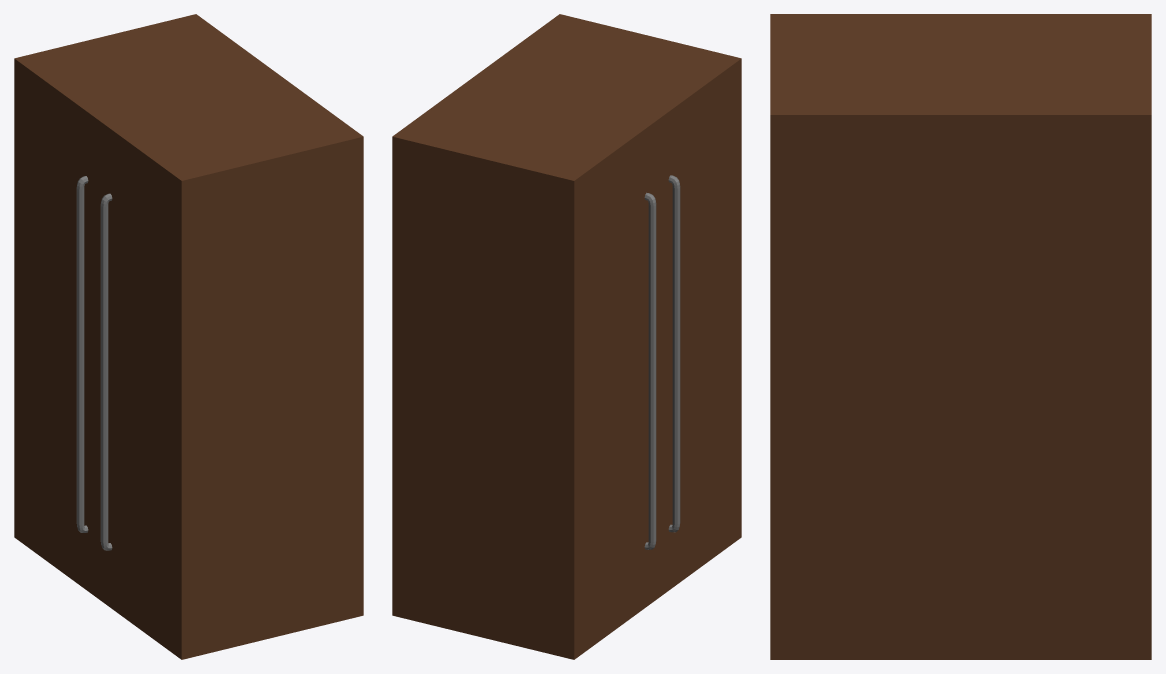
Rendered from RatSpawner2.fbx.
3 views of the same model, side by side, from view 1: azimuth 30°, elevation 25°; view 2: azimuth 150°, elevation 25°; view 3: azimuth 270°, elevation 25° (orthographic). The views are drawn at different scales.
Visible parts, largest first — view 1: Cupboard; view 2: Cupboard; view 3: Cupboard.
Part boxes in pixels (box(x1,y1,x2,y2)): Cupboard: box(14, 14, 363, 659); Cupboard: box(392, 14, 741, 659); Cupboard: box(770, 14, 1151, 659).
Size of the model in its own units: 69.03 by 165 by 105.
